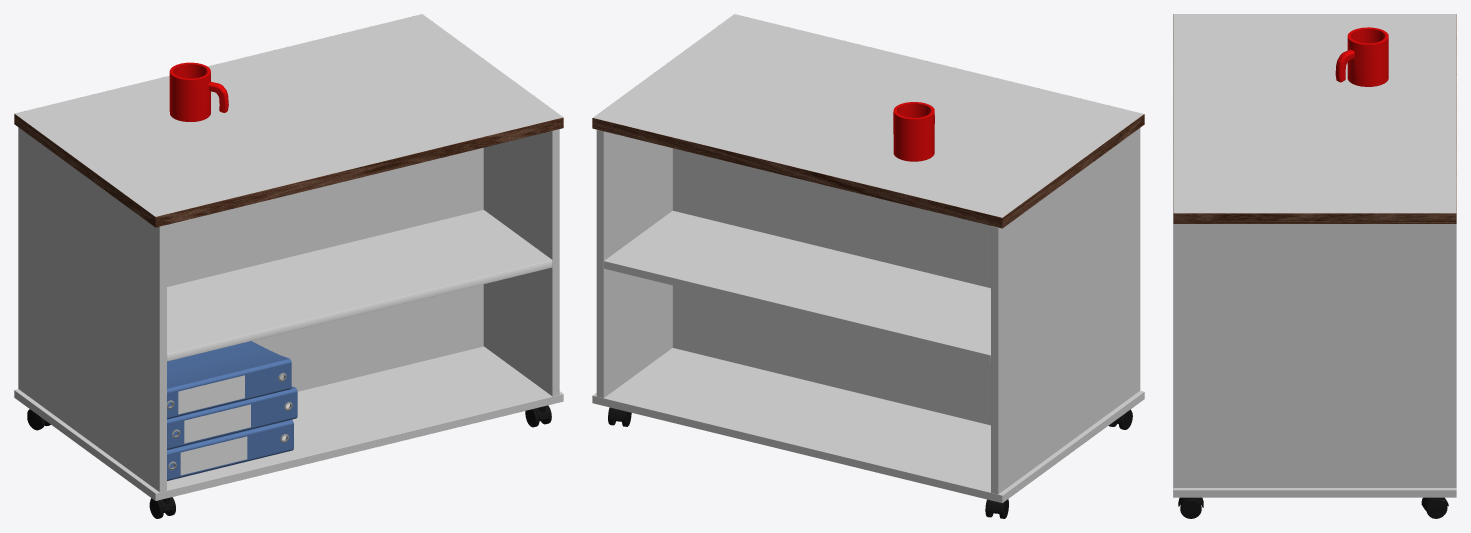
File: Shelfsmall_ver1.glb
The picture shows the model from 3 angles, left to right: view 1: azimuth 30°, elevation 25°; view 2: azimuth 150°, elevation 25°; view 3: azimuth 270°, elevation 25°; orthographic projection.
Parts seen in each view (by area): view 1: archmodels_110_014_obj_07; view 2: archmodels_110_014_obj_07; view 3: archmodels_110_014_obj_07.
Boxes of the visible parts, <box> form: archmodels_110_014_obj_07: <box>14,14,563,518</box>; archmodels_110_014_obj_07: <box>592,14,1144,518</box>; archmodels_110_014_obj_07: <box>1173,14,1456,518</box>.
Size of the model in its own units: 1 by 0.8238 by 0.6.
7 materials, 1 textured.
